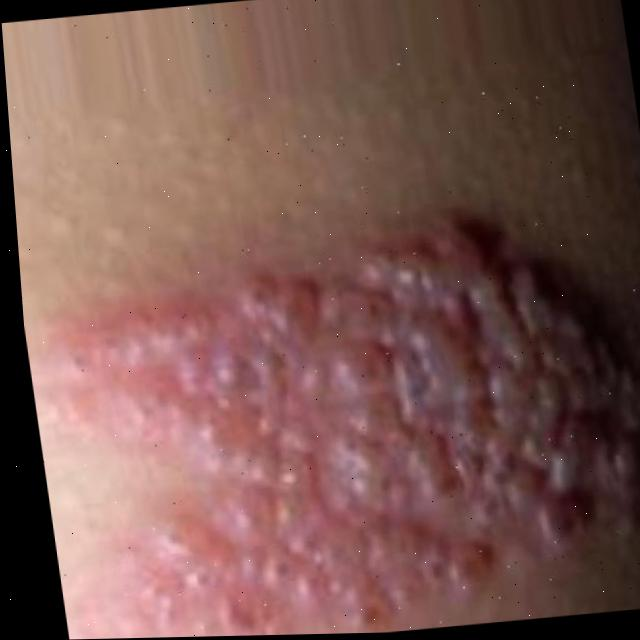Shingles: (29, 201, 640, 640)
